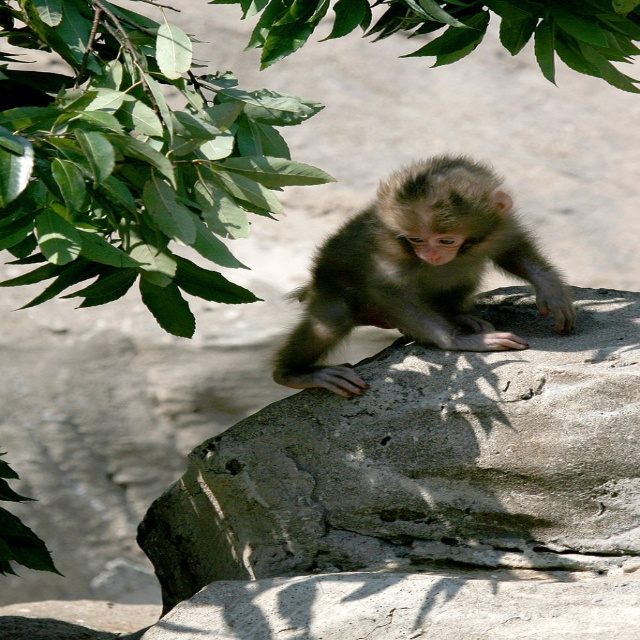Monkey: (270, 149, 596, 410)
